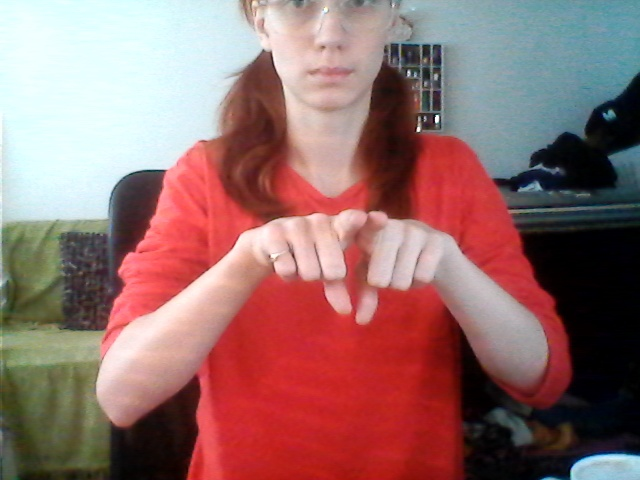sestra: (240, 199, 455, 334)
